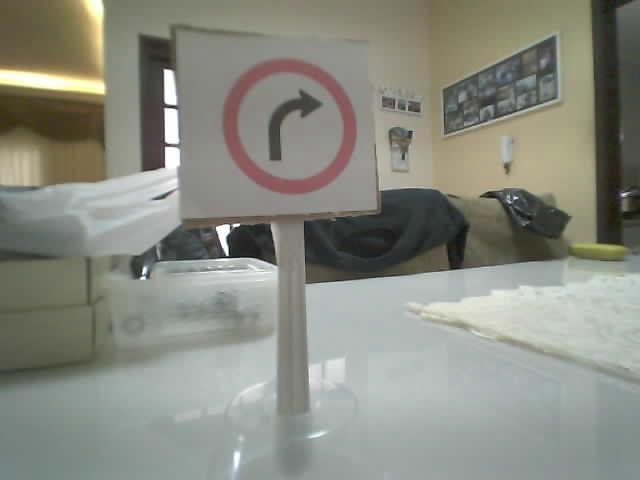R-25b_direita: (221, 57, 357, 196)
